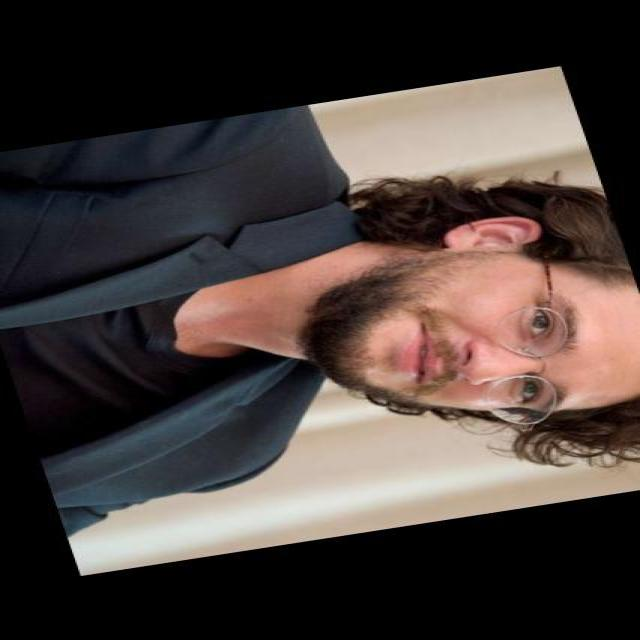glasses: (446, 273, 602, 430)
